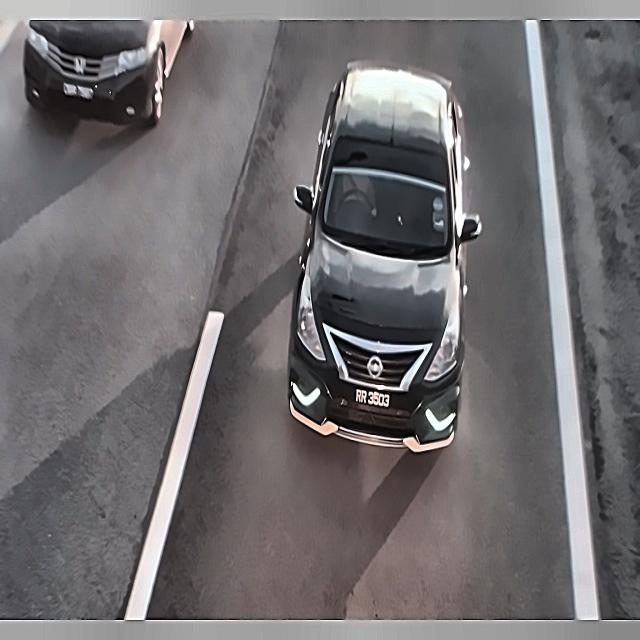car: (345, 384, 403, 418), (56, 81, 101, 106)
